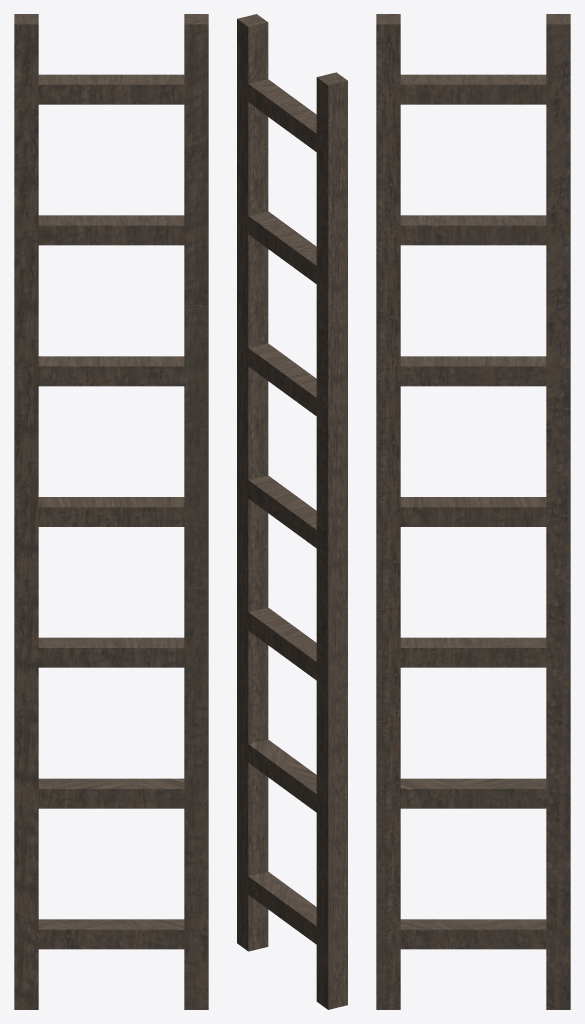
The model's file is Ladder.fbx.
3 views of the same model, side by side, from view 1: azimuth 90°, elevation 25°; view 2: azimuth 210°, elevation 25°; view 3: azimuth 270°, elevation 25° (orthographic). The views are drawn at different scales.
Visible parts, largest first — view 1: Ladder; view 2: Ladder; view 3: Ladder.
Boxes of the visible parts, left/top/right/bottom form: Ladder: left=14, top=14, right=208, bottom=1009; Ladder: left=237, top=14, right=347, bottom=1009; Ladder: left=376, top=14, right=570, bottom=1009.
Bounding box in the file's own units: 31.38 × 1406 × 251.
